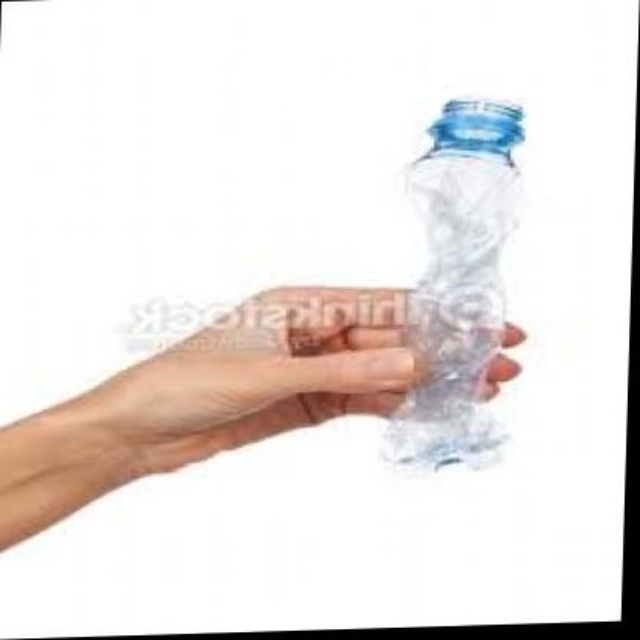trash: (386, 98, 525, 469)
